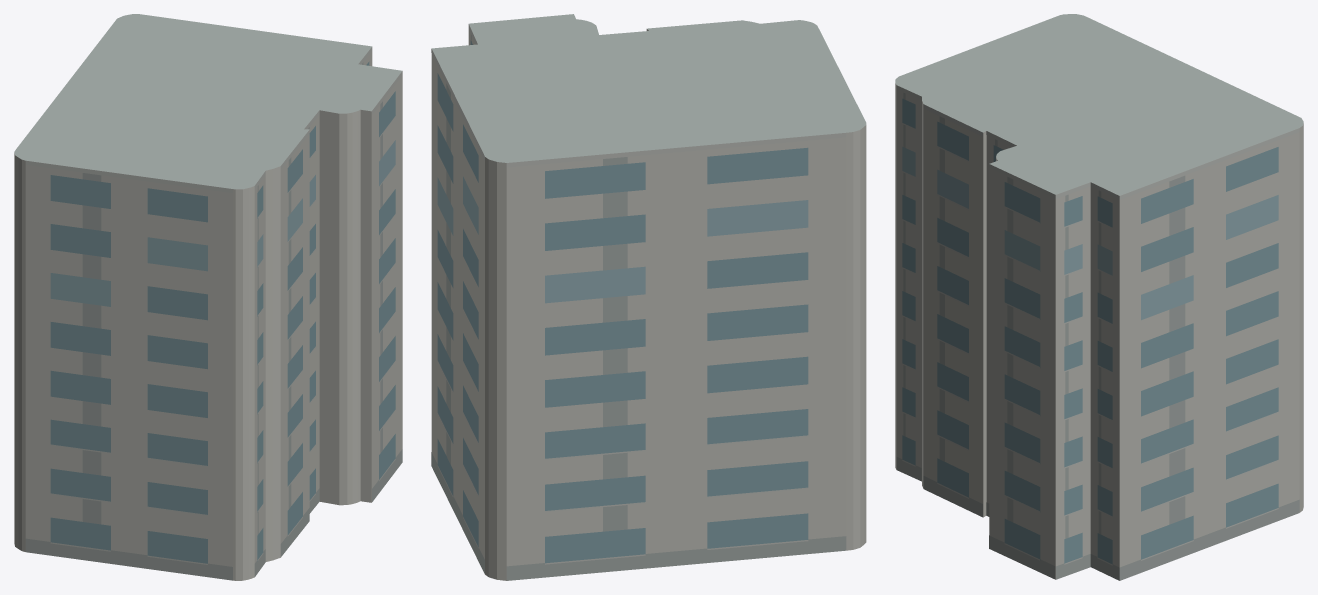
File: survey-upis-32789103.glb
3 renders of one model, left to right at view 1: azimuth 30°, elevation 25°; view 2: azimuth 150°, elevation 25°; view 3: azimuth 270°, elevation 25°, orthographic. The views are drawn at different scales.
Parts seen in each view (by area): view 1: survey-upis-32789103.tmp; view 2: survey-upis-32789103.tmp; view 3: survey-upis-32789103.tmp.
Boxes of the visible parts, bbox=[...] form: survey-upis-32789103.tmp: bbox=[14, 14, 402, 580]; survey-upis-32789103.tmp: bbox=[431, 14, 866, 580]; survey-upis-32789103.tmp: bbox=[895, 14, 1303, 580].
Bounding box in the file's own units: 22.32 × 22 × 21.16.
